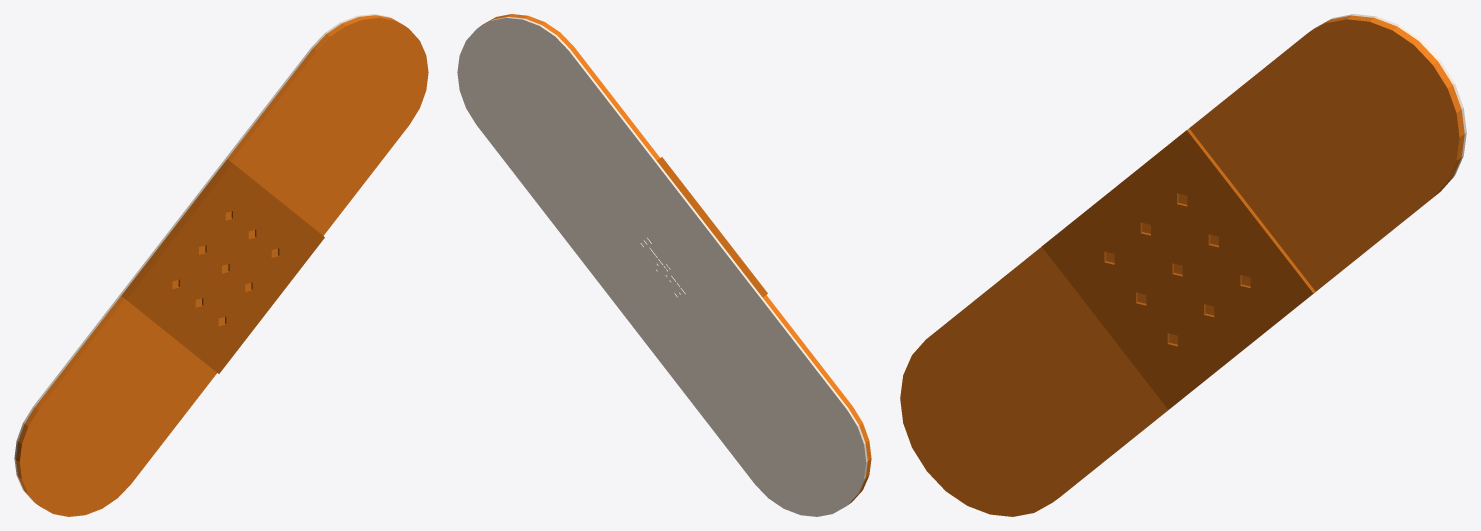
File: adhesive_bandage.fbx
3 renders of one model, left to right at view 1: azimuth 30°, elevation 25°; view 2: azimuth 150°, elevation 25°; view 3: azimuth 330°, elevation 25°, orthographic. The views are drawn at different scales.
Parts seen in each view (by area): view 1: Cube.1006; view 2: Cube.1006; view 3: Cube.1006.
Boxes of the visible parts, x1,y1,x2,y2 form: Cube.1006: [14, 14, 428, 516]; Cube.1006: [457, 14, 871, 516]; Cube.1006: [900, 14, 1466, 516].
Bounding box in the file's own units: 219 × 219 × 6.99.
Materials: 1 (1 with a texture image).
